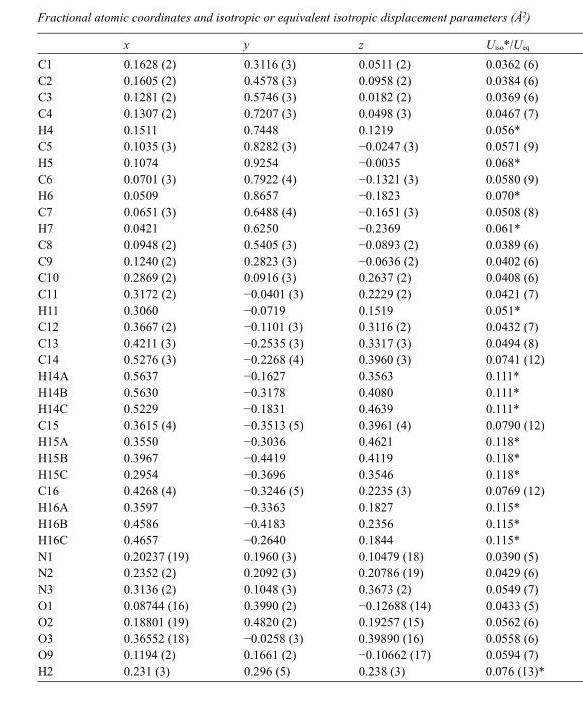table: (36, 37, 543, 677)
table column: (330, 37, 457, 677), (95, 37, 215, 677), (215, 37, 330, 677), (457, 37, 543, 677), (36, 37, 95, 677)
table column header: (36, 37, 543, 53)
table row: (36, 53, 543, 71), (36, 71, 543, 88), (36, 104, 543, 121), (36, 153, 543, 170), (36, 186, 543, 203), (36, 235, 543, 252), (36, 268, 543, 285), (36, 317, 543, 334), (36, 350, 543, 367), (36, 399, 543, 416), (36, 432, 543, 449), (36, 481, 543, 498), (36, 514, 543, 531), (36, 547, 543, 564), (36, 596, 543, 613), (36, 629, 543, 646), (36, 37, 543, 53), (36, 88, 543, 104), (36, 121, 543, 137), (36, 137, 543, 153), (36, 170, 543, 186), (36, 203, 543, 219), (36, 219, 543, 235), (36, 252, 543, 268), (36, 285, 543, 301), (36, 301, 543, 317), (36, 334, 543, 350), (36, 367, 543, 383), (36, 383, 543, 399), (36, 416, 543, 432), (36, 449, 543, 465), (36, 465, 543, 481), (36, 498, 543, 514), (36, 531, 543, 547), (36, 564, 543, 580), (36, 580, 543, 596), (36, 613, 543, 629), (36, 646, 543, 662), (36, 662, 543, 677)
